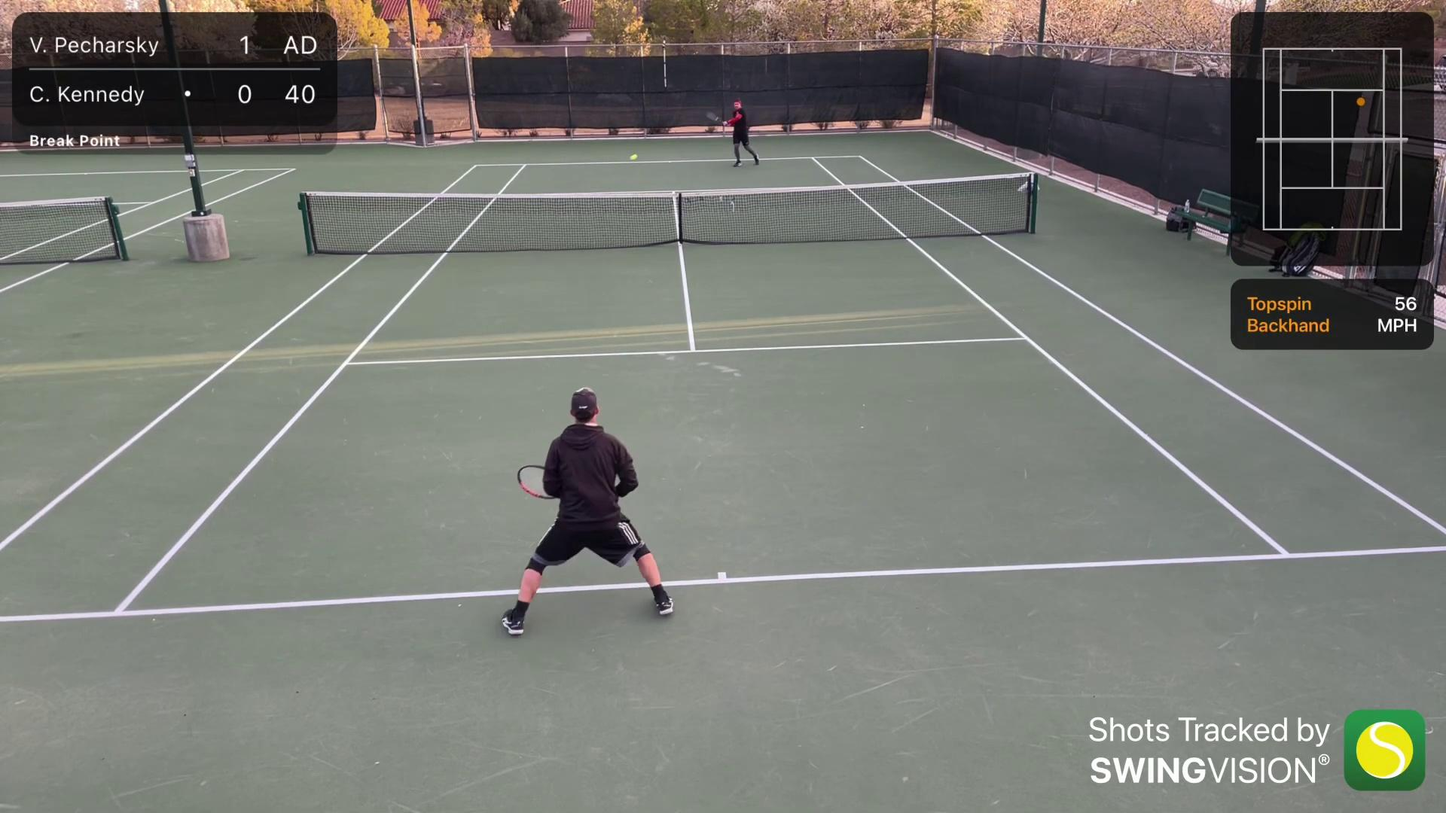ball: (630, 152, 638, 161)
